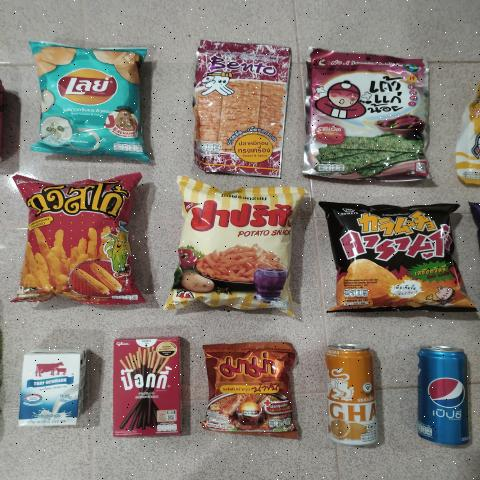bento_red: (188, 42, 288, 174)
karamujo: (329, 205, 457, 307)
lay_blue: (36, 45, 150, 158)
mama: (212, 347, 288, 429)
paprika: (180, 179, 300, 315)
pepsi_blue: (415, 344, 470, 443)
pokki: (118, 339, 188, 426)
singha_yellow: (321, 346, 378, 445)
taokaenoi: (312, 54, 434, 184)
thai_denmark: (29, 355, 81, 421)
twisco: (26, 183, 132, 292)
